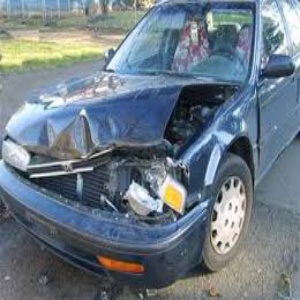bonnet: (40, 73, 190, 156)
